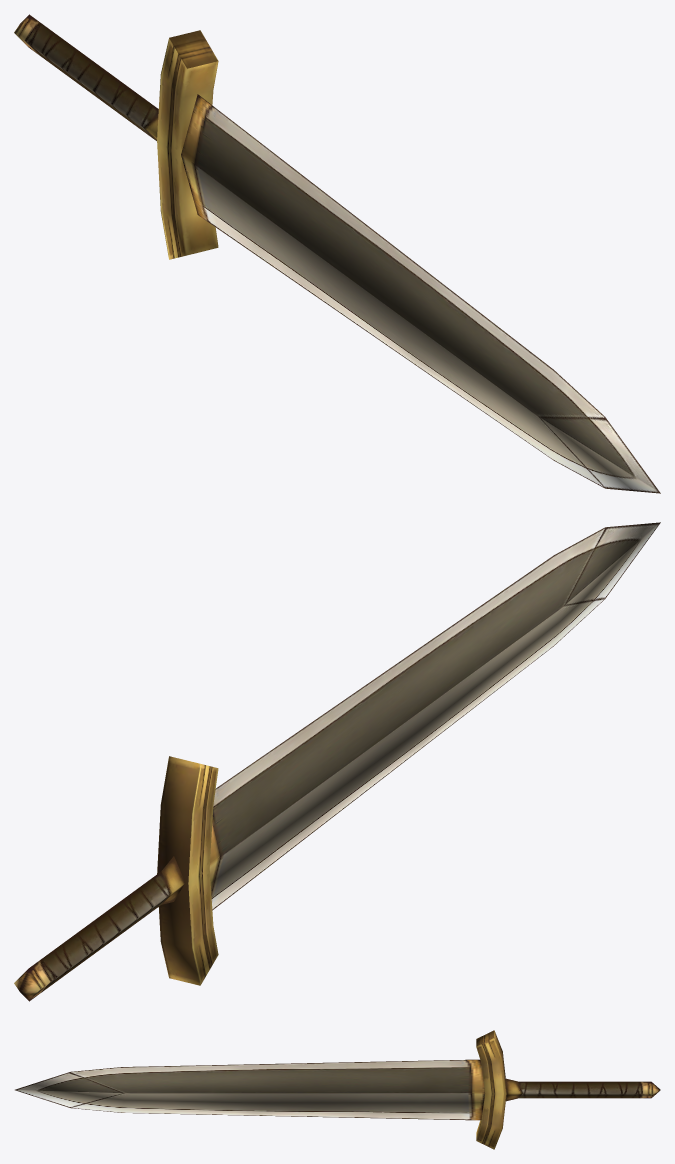
The model's file is 0001_EQUIP_Sword.fbx.
3 renders of one model, top to bottom at view 1: azimuth 30°, elevation 25°; view 2: azimuth 150°, elevation 25°; view 3: azimuth 270°, elevation 25°, orthographic. The views are drawn at different scales.
Parts seen in each view (by area): view 1: 0001_EQUIP_Sword; view 2: 0001_EQUIP_Sword; view 3: 0001_EQUIP_Sword.
Boxes of the visible parts, x1,y1,x2,y2 form: 0001_EQUIP_Sword: (14,14,660,493); 0001_EQUIP_Sword: (14,522,660,1001); 0001_EQUIP_Sword: (15,1030,660,1149).
Size of the model in its own units: 0.0583 by 0.3941 by 2.06.
